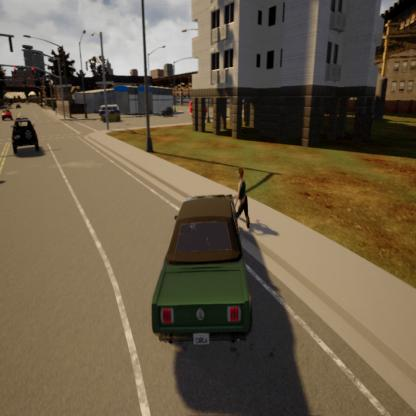Cars: (136, 190, 260, 347), (11, 111, 42, 166), (96, 100, 122, 127)
Pedestrian: (231, 157, 258, 242)
